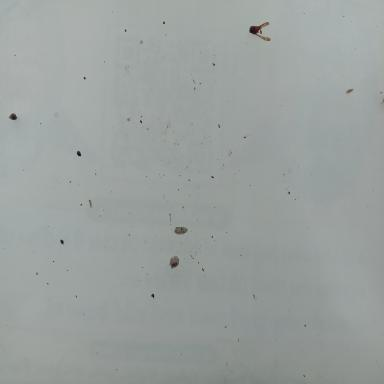pbw: (174, 226, 188, 235), (88, 199, 92, 208)
